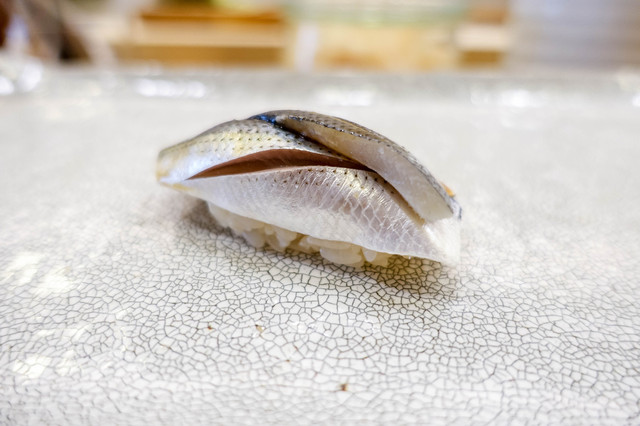spotted-shad: (155, 105, 464, 278)
